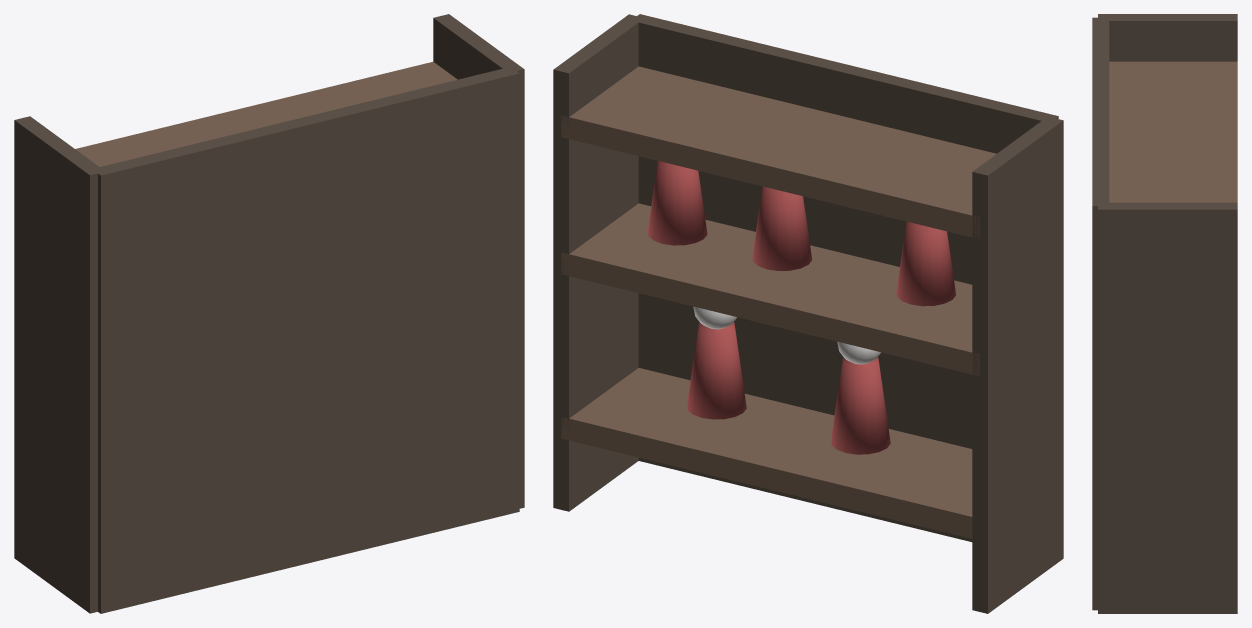
Rendered from prop_ningyou_tana.glb.
The picture shows the model from 3 angles, left to right: view 1: azimuth 30°, elevation 25°; view 2: azimuth 150°, elevation 25°; view 3: azimuth 270°, elevation 25°; orthographic projection. The views are drawn at different scales.
Visible parts, largest first — view 1: ningyou_tana; view 2: ningyou_tana; view 3: ningyou_tana.
Boxes of the visible parts, x1,y1,x2,y2 form: ningyou_tana: (14, 14, 524, 613); ningyou_tana: (553, 14, 1063, 613); ningyou_tana: (1092, 14, 1237, 613).
Bounding box in the file's own units: 1.66 × 1.6 × 0.52.
